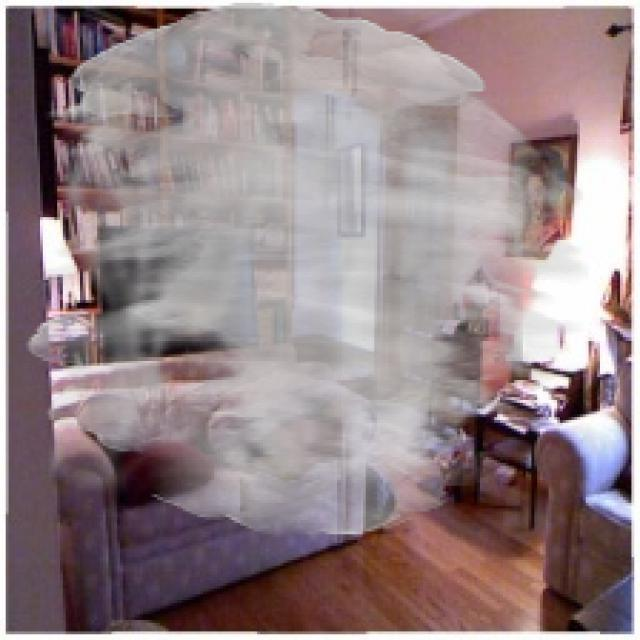Smoke: (26, 2, 588, 538)
